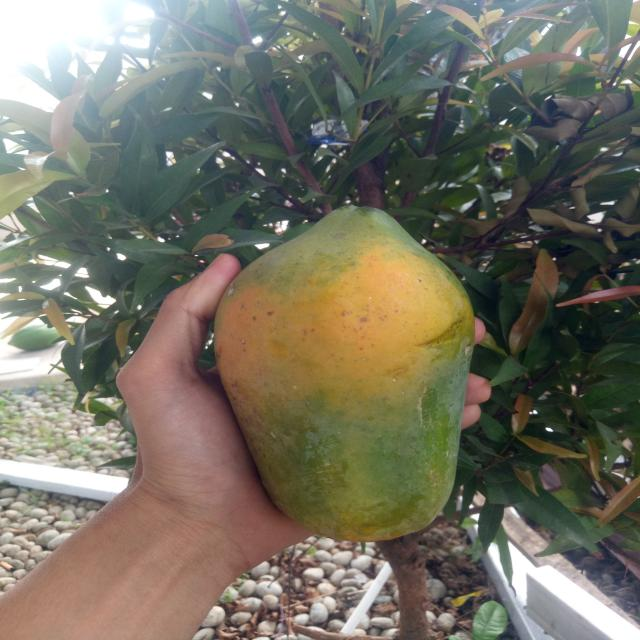Pepaya rippen: (217, 195, 473, 534)
